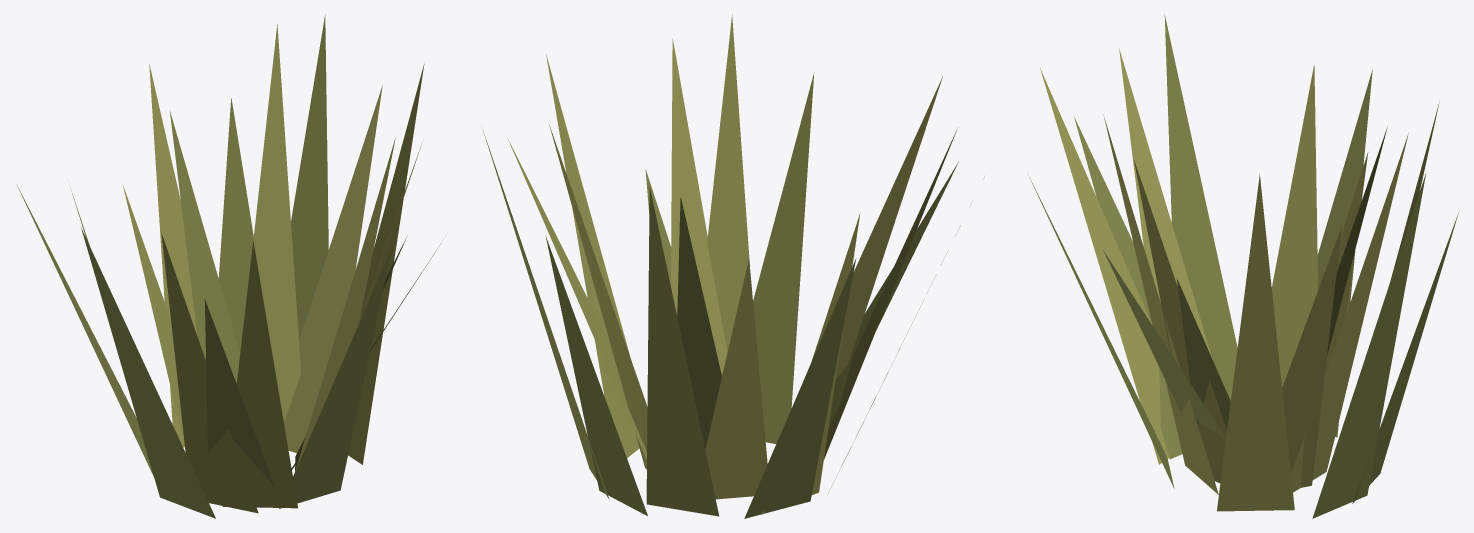
File: dune_grass.glb
3 renders of one model, left to right at view 1: azimuth 30°, elevation 25°; view 2: azimuth 150°, elevation 25°; view 3: azimuth 270°, elevation 25°, orthographic. The views are drawn at different scales.
Parts seen in each view (by area): view 1: dune_grass2; view 2: dune_grass2; view 3: dune_grass2.
Part boxes in pixels (x1,y1,x2,y2): dune_grass2: [16, 15, 440, 518]; dune_grass2: [483, 14, 984, 518]; dune_grass2: [1027, 14, 1458, 518].
Bounding box in the file's own units: 1.07 × 0.9838 × 1.
